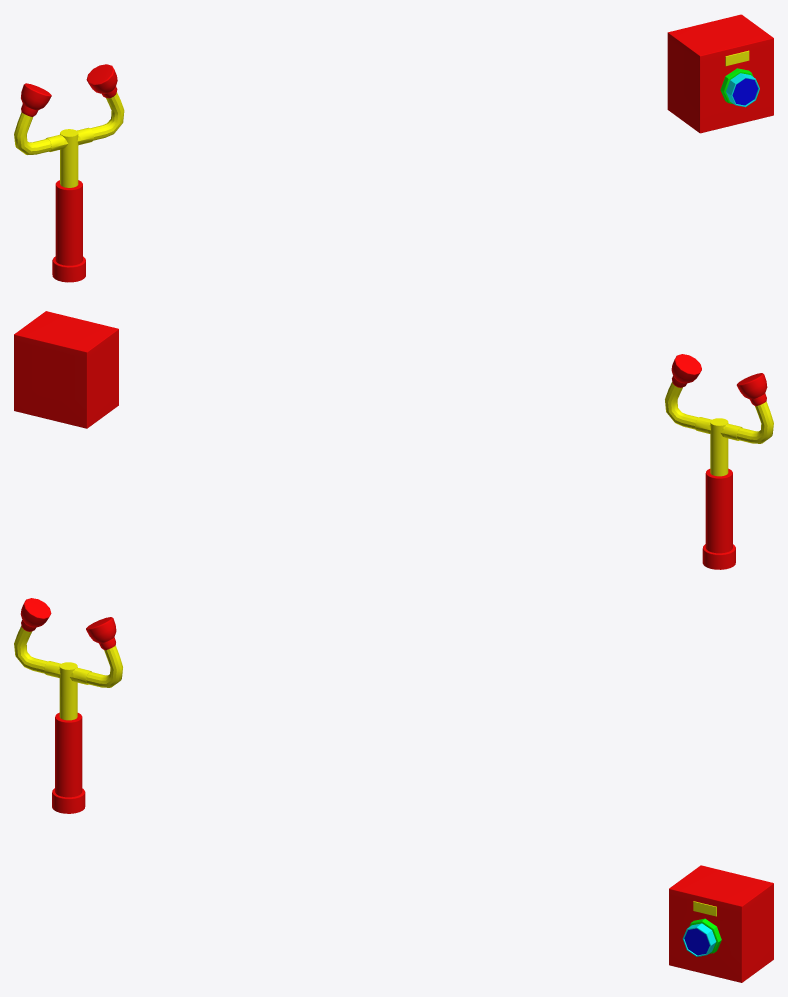
File: Eyewash_PowerOff.fbx
3 renders of one model, top to bottom at view 1: azimuth 30°, elevation 25°; view 2: azimuth 150°, elevation 25°; view 3: azimuth 330°, elevation 25°, orthographic.
Visible parts, largest first — view 1: pCylinder2, eyeWash2; view 2: pCylinder2, eyeWash2; view 3: pCylinder2, eyeWash2.
Part boxes in pixels (x1,y1,x2,y2): pCylinder2: (667,14,773,133); eyeWash2: (14,64,124,282); pCylinder2: (14,311,118,428); eyeWash2: (665,354,773,569); pCylinder2: (669,865,773,982); eyeWash2: (14,598,122,813).
Size of the model in its own units: 1.14 by 0.2913 by 0.109.
